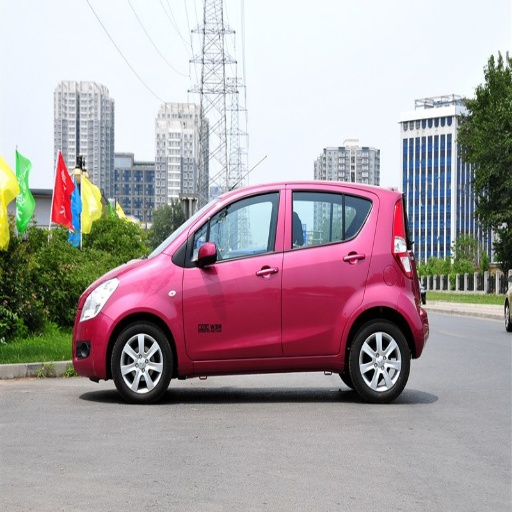back_left_door: (283, 186, 374, 354)
front_left_door: (183, 187, 285, 359)
